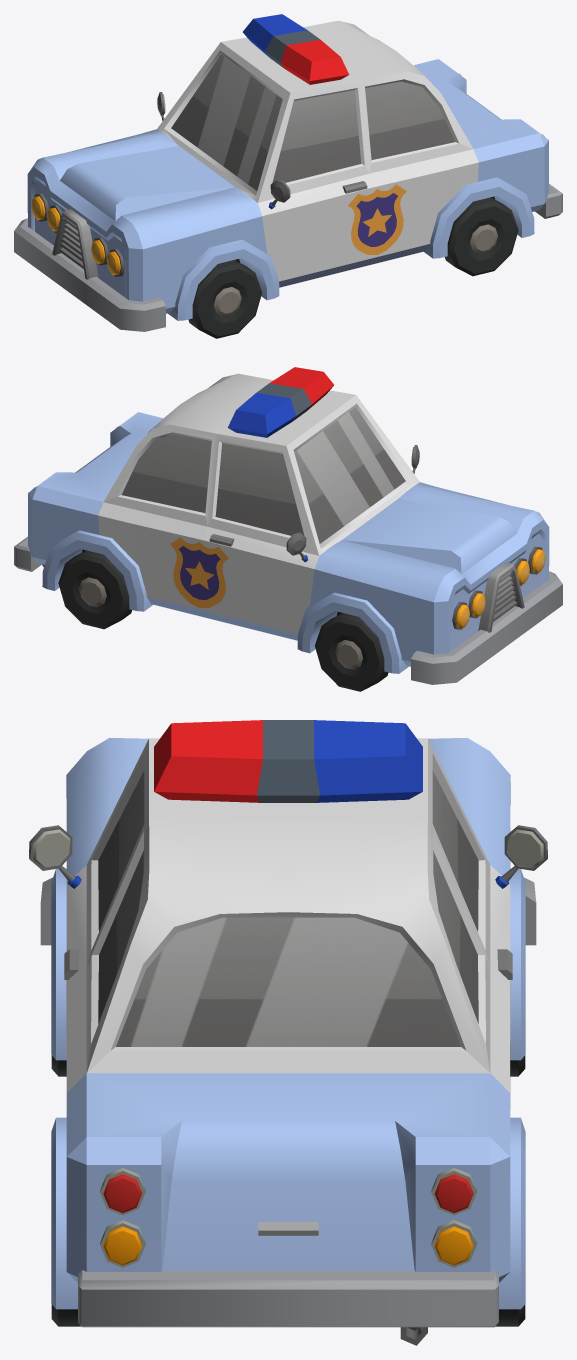
File: Car_Police_4_B_1.fbx
3 views of the same model, one above another, from view 1: azimuth 30°, elevation 25°; view 2: azimuth 150°, elevation 25°; view 3: azimuth 270°, elevation 25° (orthographic). The views are drawn at different scales.
Visible parts, largest first — view 1: Car_Police_4_B_1, RL, FL; view 2: Car_Police_4_B_1, RR, FR; view 3: Car_Police_4_B_1.
Part boxes in pixels (x1,y1,x2,y2): Car_Police_4_B_1: (14, 14, 562, 331); RL: (444, 197, 518, 276); FL: (188, 260, 261, 338); Car_Police_4_B_1: (14, 367, 562, 684); RR: (58, 550, 132, 629); FR: (315, 613, 388, 691); Car_Police_4_B_1: (29, 720, 547, 1345).
Bounding box in the file's own units: 3.36 × 1.64 × 1.7.
